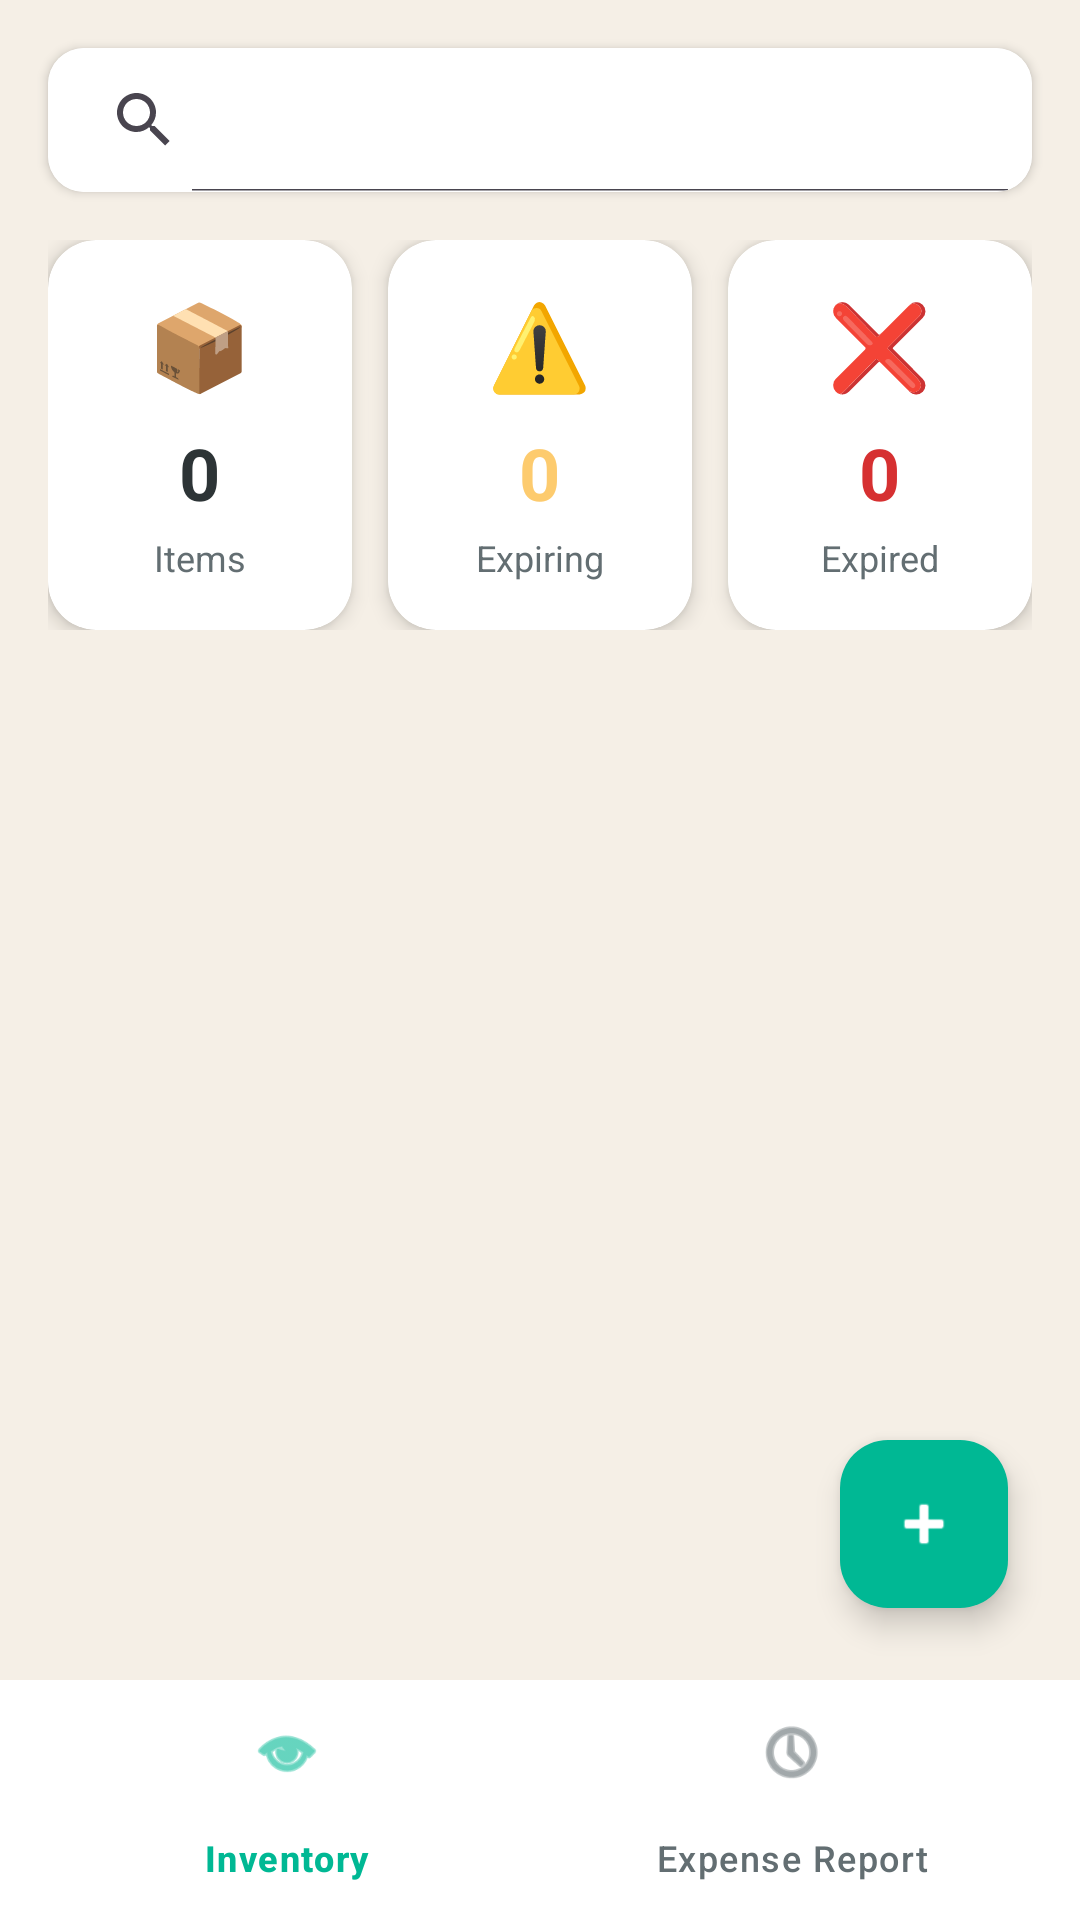

Named icons in this screenshot (1080px×1920px) and their bounding boxes, (x1,y1,x2,y2):
Add Item: (840,1440,1008,1608)
